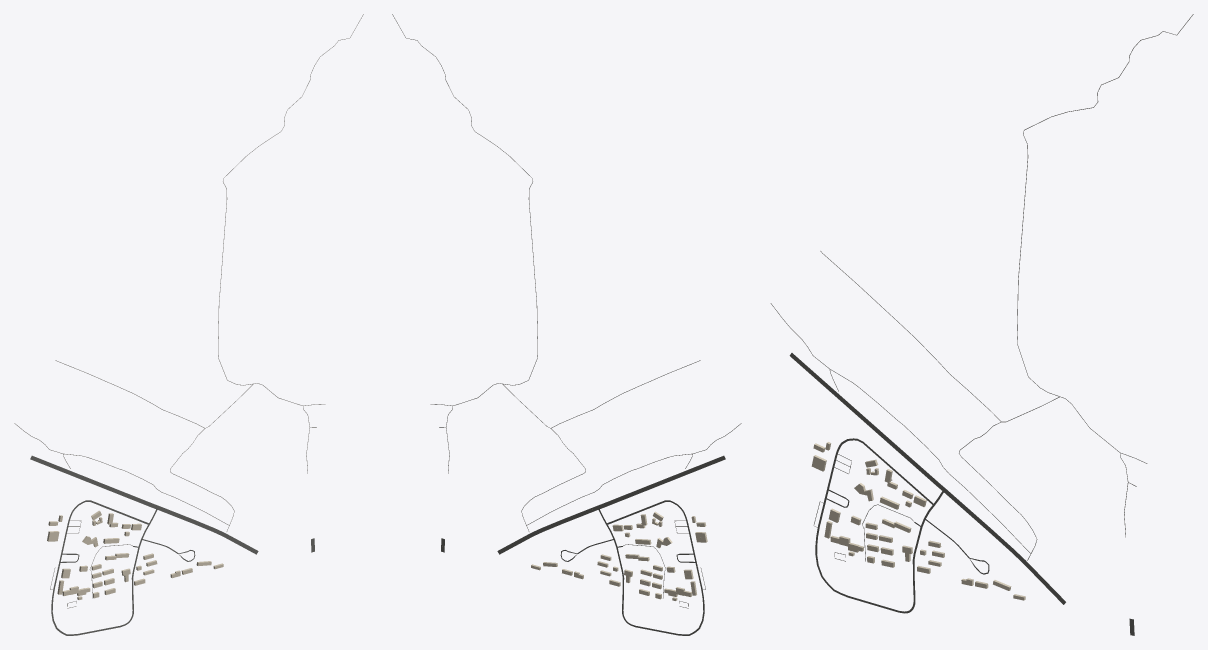
Rendered from historic-palestine-04_20_3459_3143.glb.
3 views of the same model, side by side, from view 1: azimuth 30°, elevation 25°; view 2: azimuth 150°, elevation 25°; view 3: azimuth 330°, elevation 25° (orthographic). The views are drawn at different scales.
Parts seen in each view (by area): view 1: Road 25, Road שדות נגב, Road .001; view 2: Road 25, Road שדות נגב, Road .001; view 3: Road 25, Road שדות נגב, Road .001.
Boxes of the visible parts, x1=… form: Road 25: x1=30, y1=455, x2=258, y2=554; Road שדות נגב: x1=51, y1=500, x2=149, y2=635; Road .001: x1=218, y1=14, x2=363, y2=473; Road 25: x1=497, y1=455, x2=725, y2=554; Road שדות נגב: x1=606, y1=500, x2=704, y2=635; Road .001: x1=392, y1=14, x2=537, y2=473; Road 25: x1=789, y1=353, x2=1065, y2=604; Road שדות נגב: x1=815, y1=438, x2=933, y2=613; Road .001: x1=1017, y1=14, x2=1193, y2=537.
Bounding box in the file's own units: 1149 × 1739 × 8.7.
